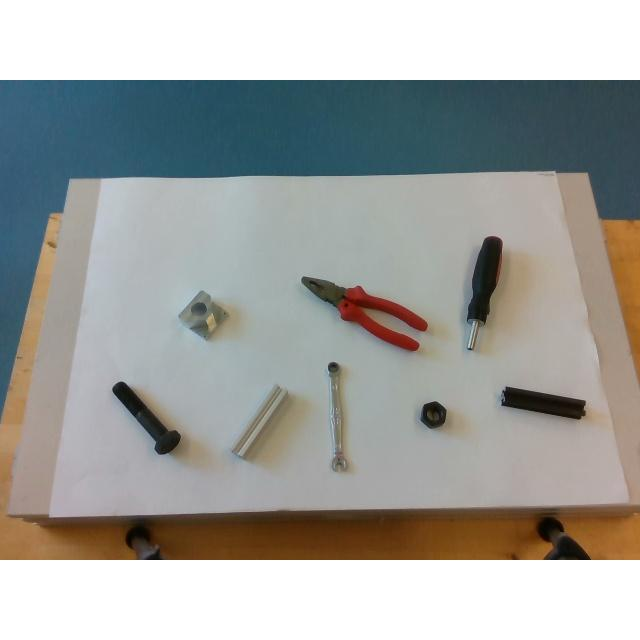F20_20_B: (500, 387, 584, 419)
F20_20_G: (231, 385, 287, 457)
M20: (418, 400, 446, 428)
M20_100: (112, 382, 180, 454)
Wrench: (327, 361, 347, 471)
